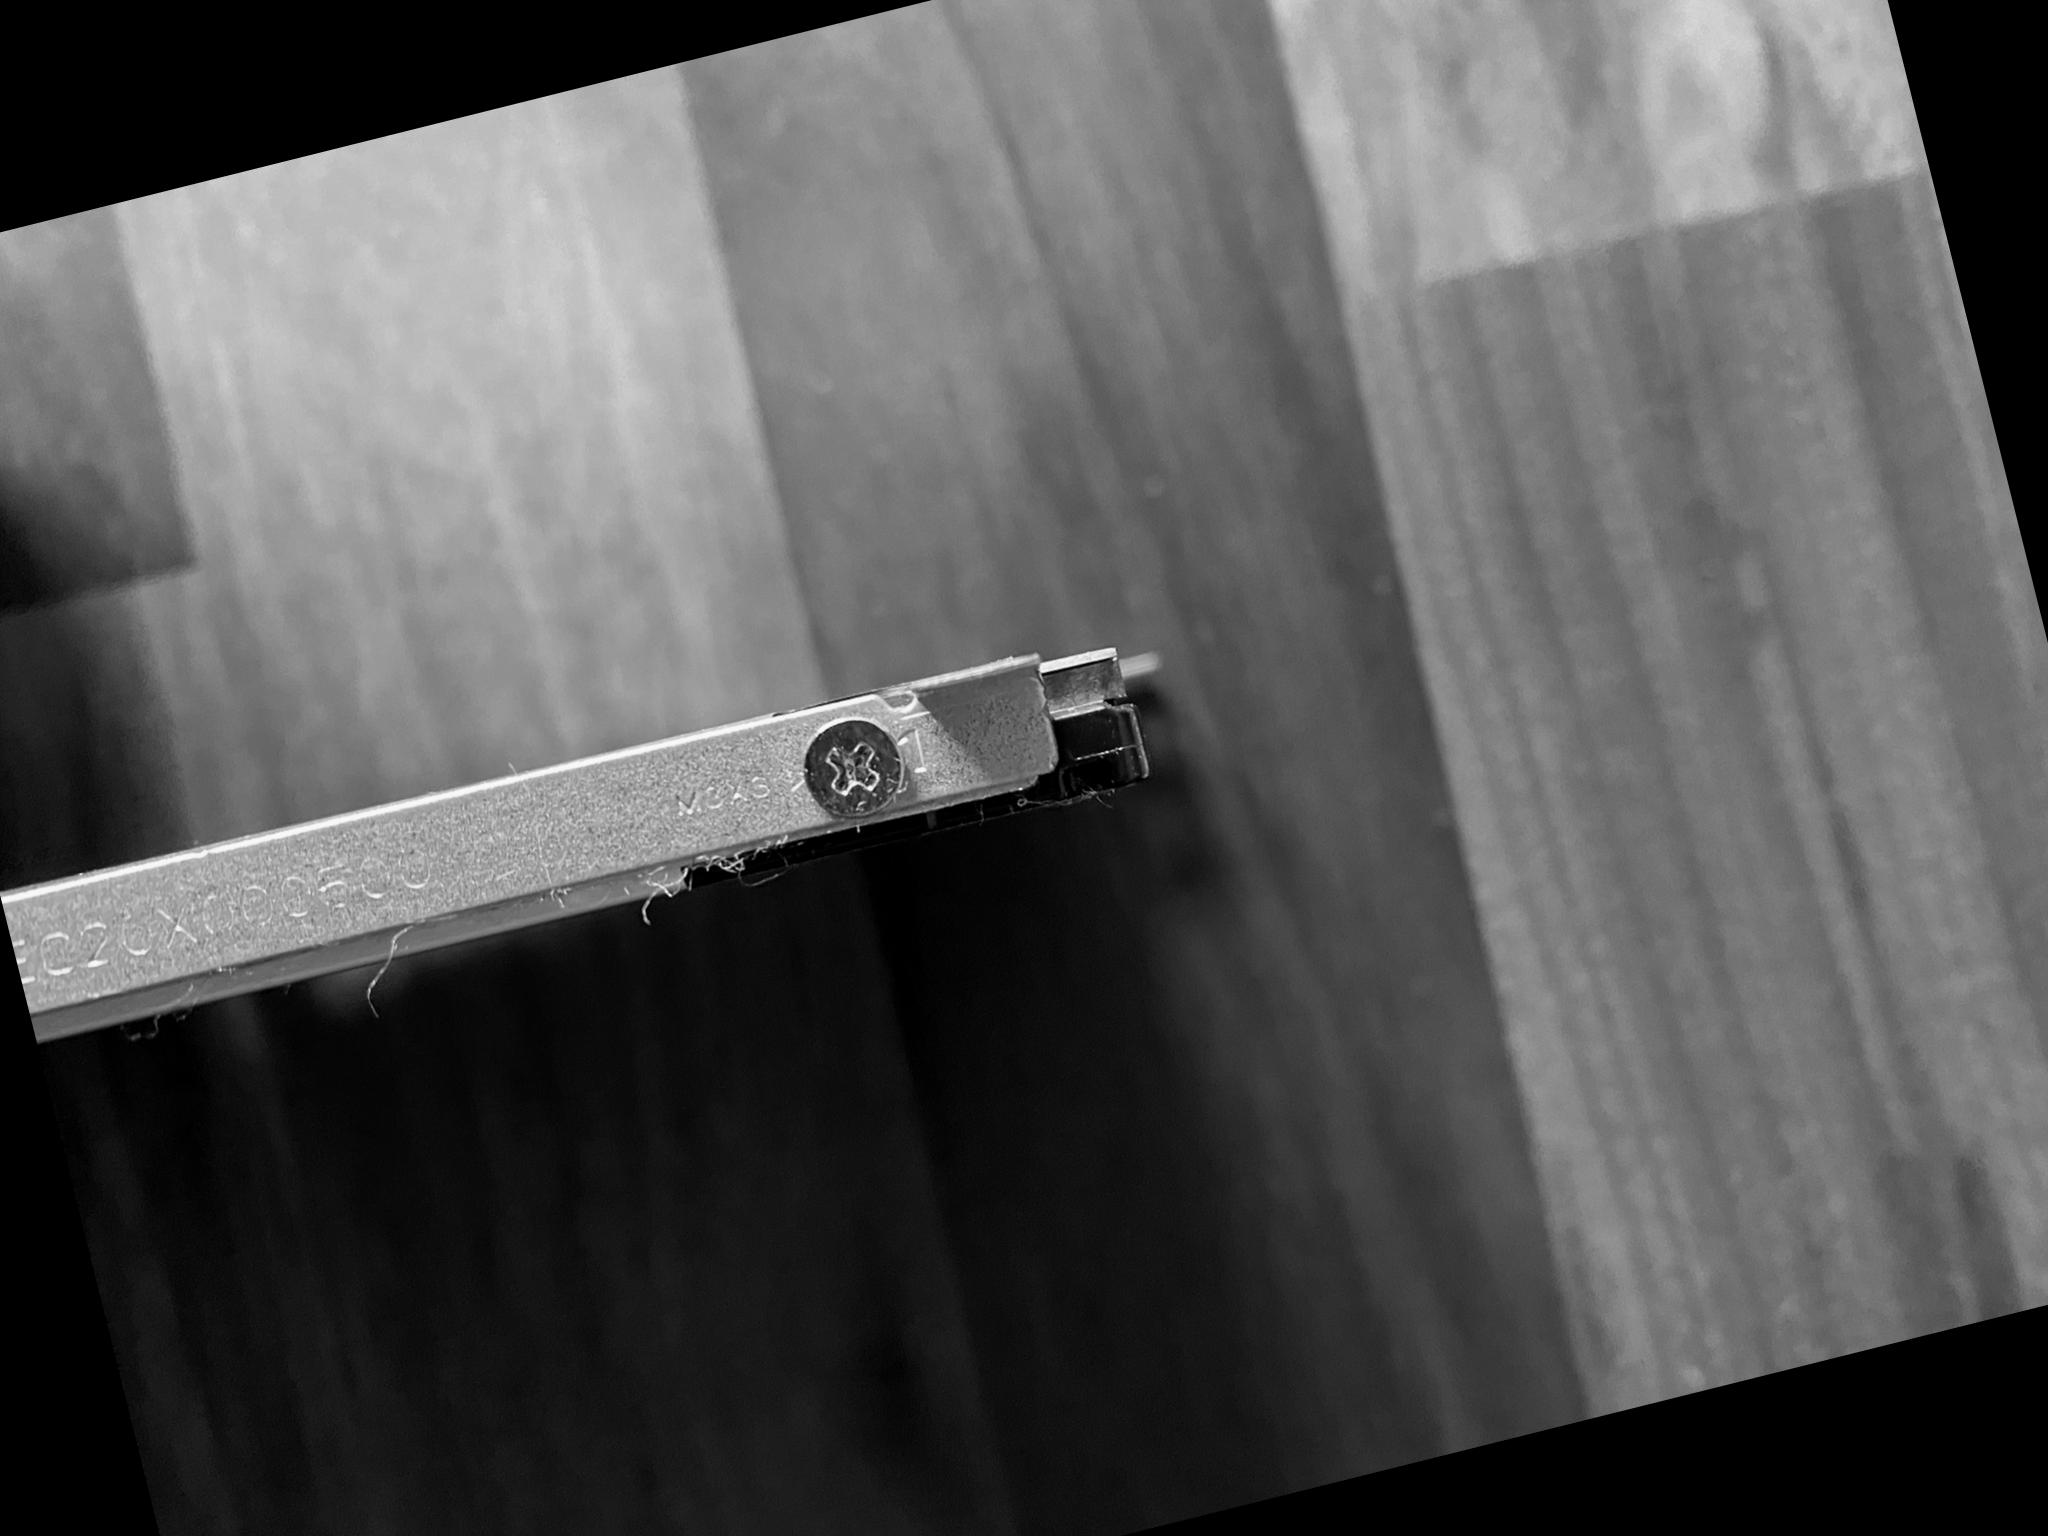screw: (785, 703, 919, 836)
